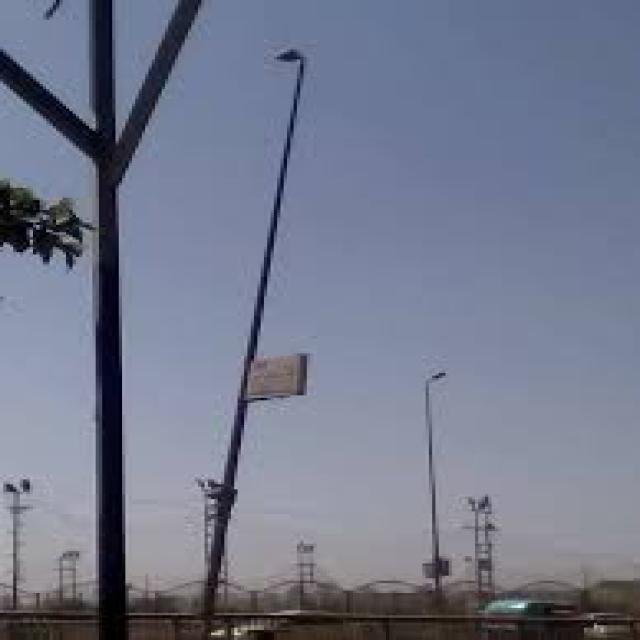Street Light: (191, 47, 307, 635), (416, 368, 448, 623)
